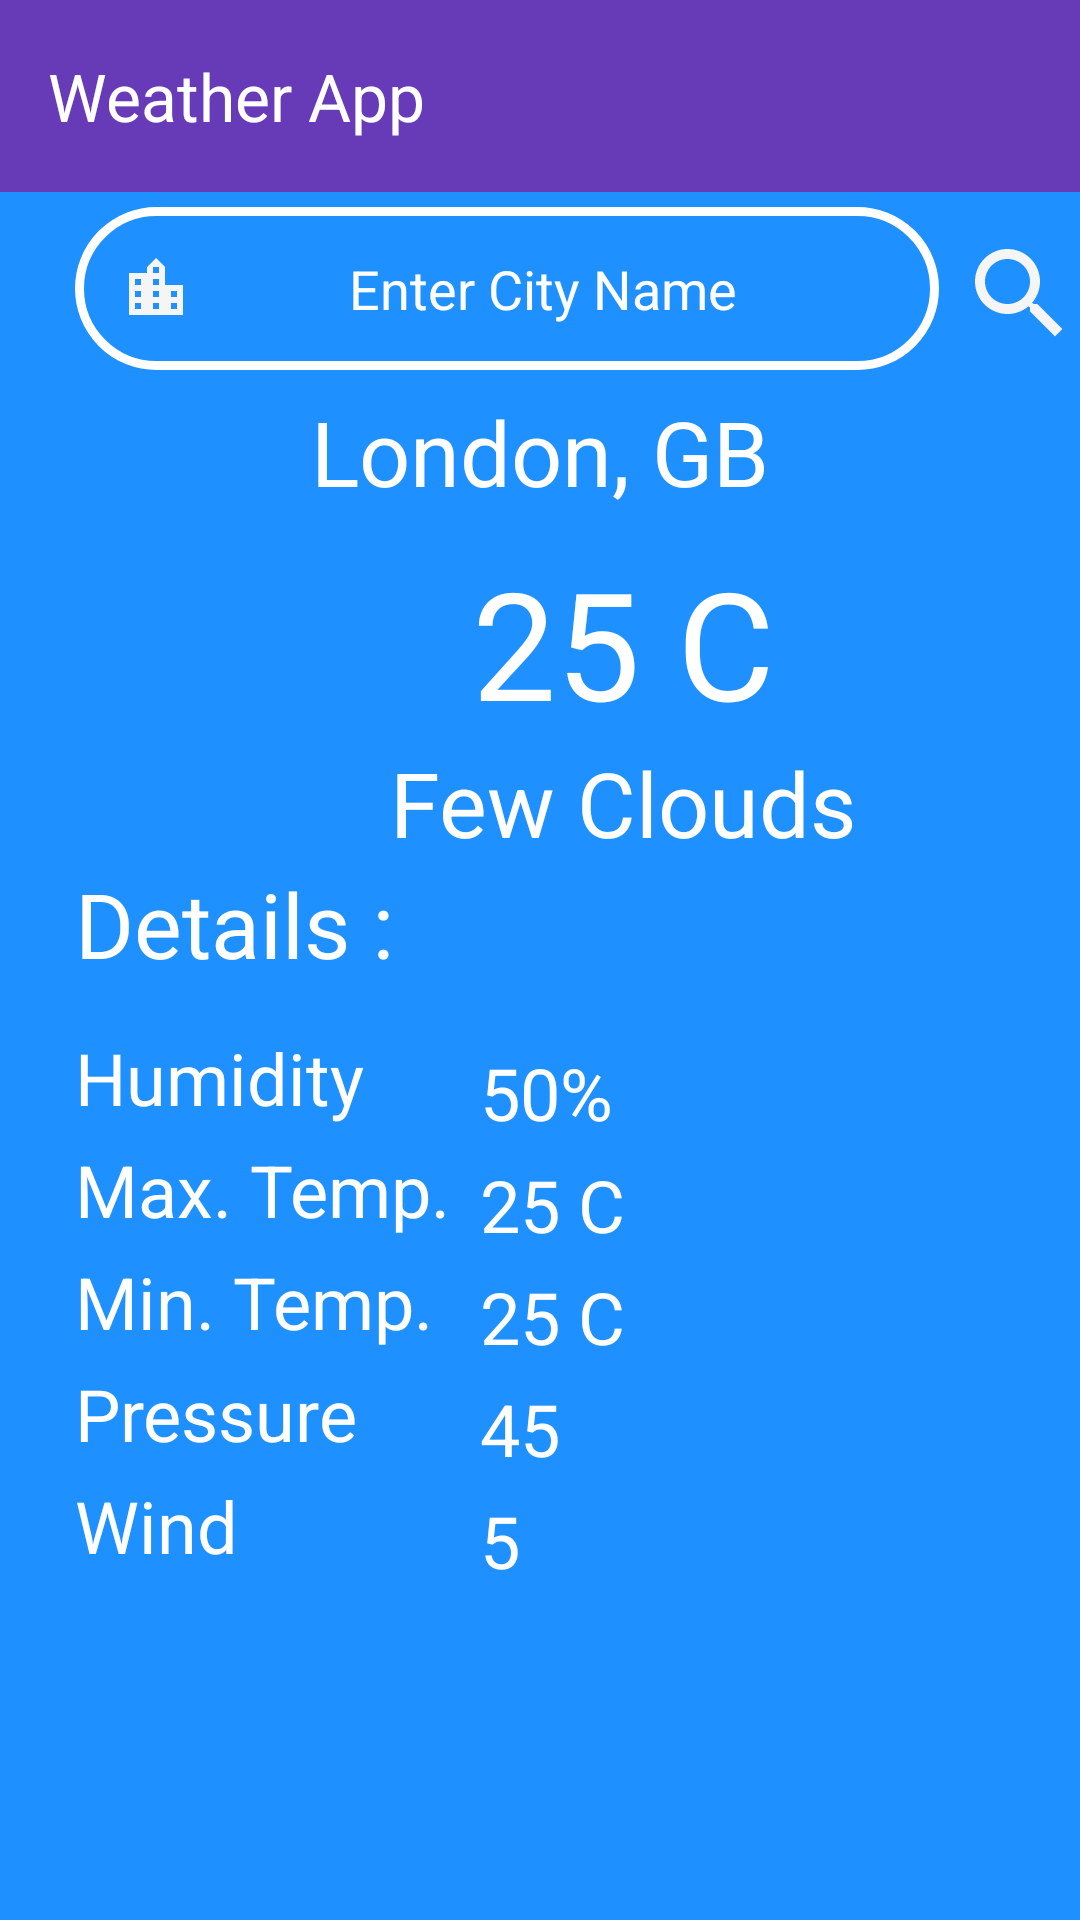

Icons on this 1080 × 1920 Android screen, each with the point to tap as point (x, y):
search: point (1018, 292)
